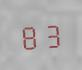eight: (19, 21, 40, 50)
three: (41, 20, 62, 48)
